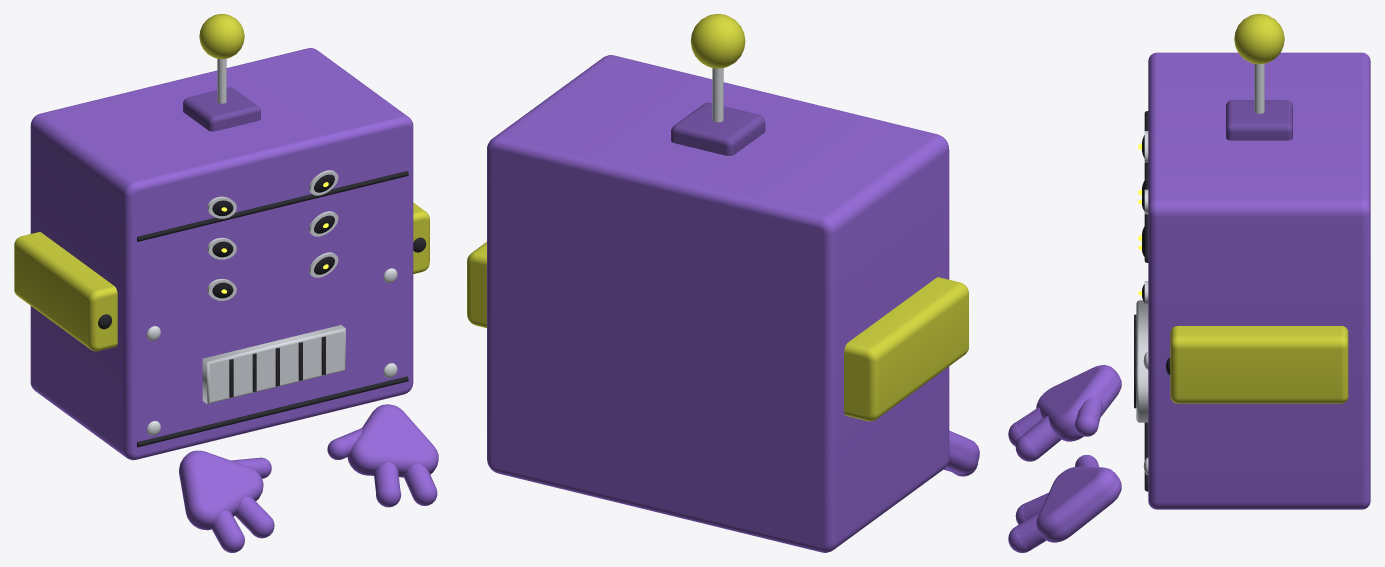
The model's file is model-seed-3.glb.
The picture shows the model from 3 angles, left to right: view 1: azimuth 30°, elevation 25°; view 2: azimuth 150°, elevation 25°; view 3: azimuth 270°, elevation 25°; orthographic projection. The views are drawn at different scales.
Visible parts, largest first — view 1: head, ear-0, mouth, hand-0, hand-1, antenna-base-0, antenna-ball-0, seam-1, seam-0, finger-0-1, finger-1-1, finger-1-0 (+3 smaller); view 2: head, ear-0, antenna-base-0, antenna-ball-0, ear-1, hand-0, antenna-stem-0; view 3: head, ear-1, hand-1, hand-0, antenna-base-0, antenna-ball-0, mouth, finger-0-1, finger-1-0, thumb-0, finger-0-0, antenna-stem-0 (+2 smaller).
Boxes of the visible parts, <box> form: head: <box>30,48,413,460</box>; ear-0: <box>14,232,117,351</box>; mouth: <box>202,325,345,403</box>; hand-0: <box>179,450,263,530</box>; hand-1: <box>347,404,438,477</box>; antenna-base-0: <box>183,87,260,131</box>; antenna-ball-0: <box>199,14,244,58</box>; seam-1: <box>137,376,408,447</box>; seam-0: <box>137,171,408,241</box>; finger-0-1: <box>235,496,274,538</box>; finger-1-1: <box>374,462,401,507</box>; finger-1-0: <box>404,463,437,505</box>; head: <box>487,55,949,552</box>; ear-0: <box>844,277,968,421</box>; antenna-base-0: <box>671,102,765,155</box>; antenna-ball-0: <box>690,14,745,68</box>; ear-1: <box>467,242,486,327</box>; hand-0: <box>944,430,979,473</box>; antenna-stem-0: <box>712,68,723,122</box>; head: <box>1148,52,1370,509</box>; ear-1: <box>1170,326,1348,403</box>; hand-1: <box>1036,466,1121,542</box>; hand-0: <box>1036,365,1121,441</box>; antenna-base-0: <box>1226,100,1292,140</box>; antenna-ball-0: <box>1234,14,1284,64</box>; mouth: <box>1136,300,1148,422</box>; finger-0-1: <box>1015,415,1061,461</box>; finger-1-0: <box>1008,512,1046,552</box>; thumb-0: <box>1075,397,1103,436</box>; finger-0-0: <box>1008,407,1042,446</box>; antenna-stem-0: <box>1254,63,1264,113</box>.
Size of the model in its own units: 0.59 by 0.7188 by 0.4887.
